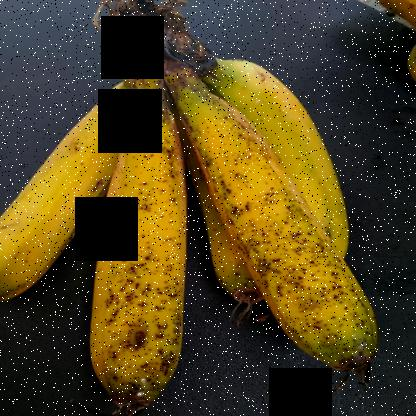ripe: (194, 92, 399, 361), (75, 99, 218, 415)
